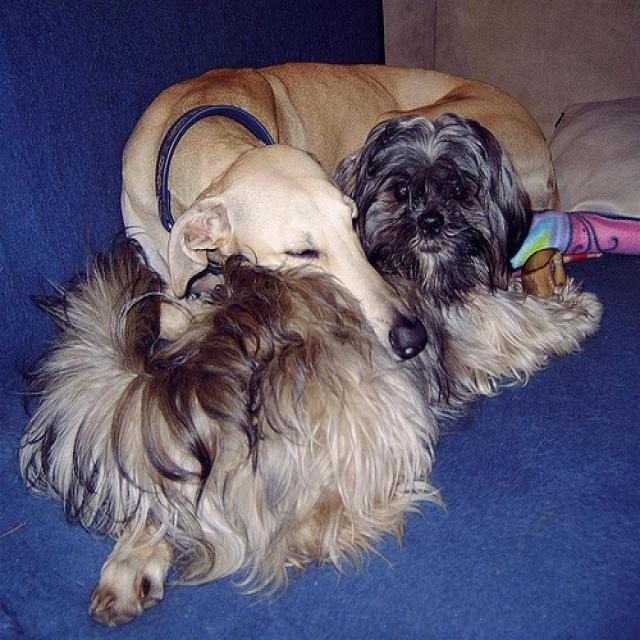dog: (18, 113, 607, 628), (119, 61, 558, 362)
